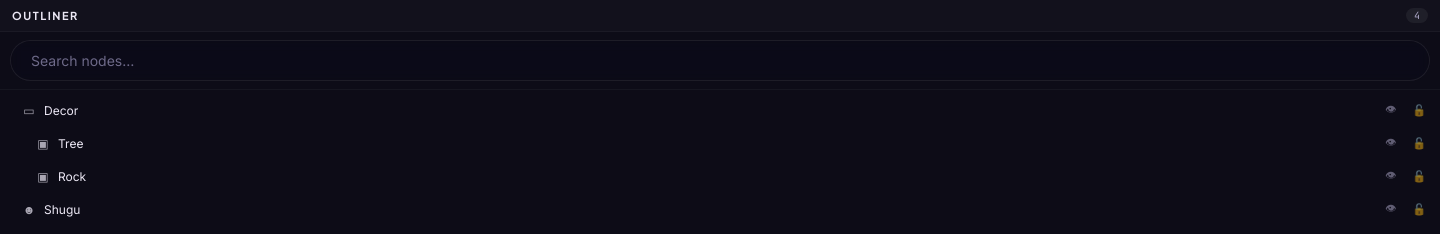
Test: Outliner — empty / search › shows no-match state when search is empty
In the field with placeholder "Search nodes…": x=720, y=60 [10,40,1430,81], type "zzznomatch"
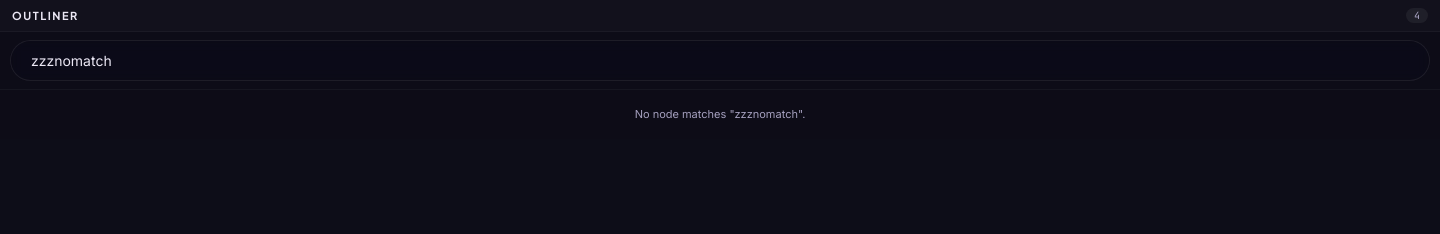
Expected: the text "No node matches \"zzznomatch\"." is shown, [635,106,805,122]
